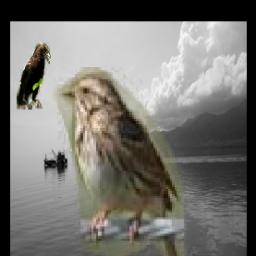Crow: (18, 43, 52, 111)
Sparrow: (53, 68, 184, 256)
